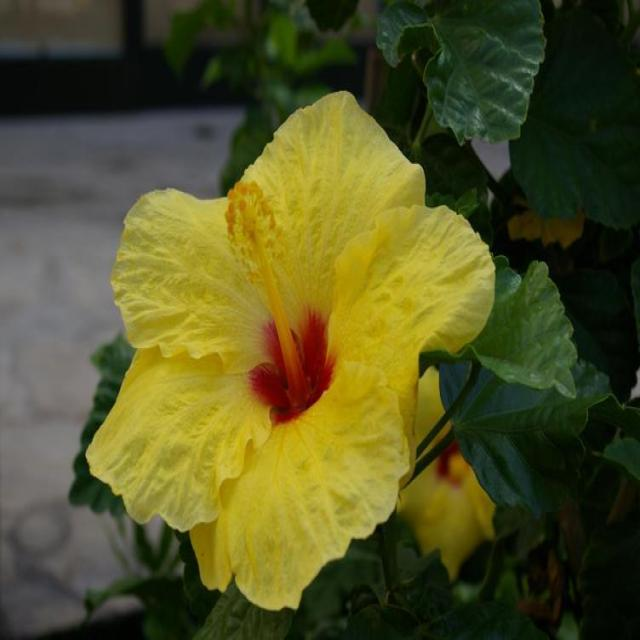hibiscus: (63, 28, 494, 610)
